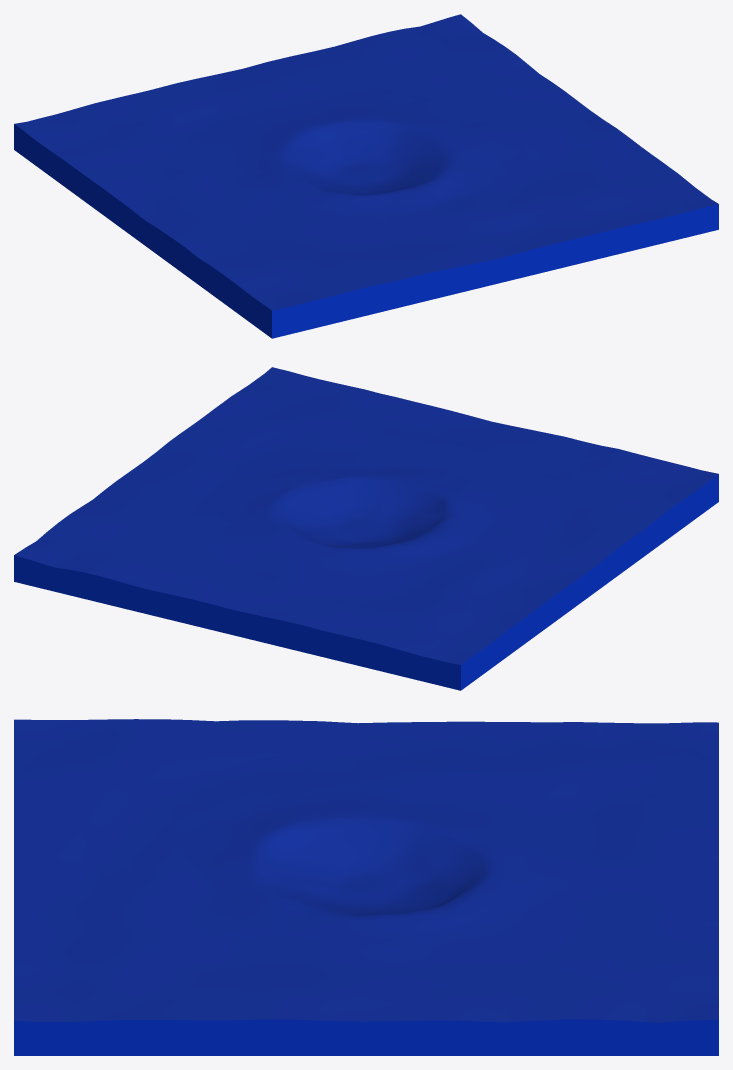
The model's file is craterHoloMap.fbx.
3 views of the same model, one above another, from view 1: azimuth 30°, elevation 25°; view 2: azimuth 150°, elevation 25°; view 3: azimuth 270°, elevation 25° (orthographic). The views are drawn at different scales.
Visible parts, largest first — view 1: Picard_LP; view 2: Picard_LP; view 3: Picard_LP.
Boxes of the visible parts, x1,y1,x2,y2 form: Picard_LP: [14, 14, 718, 338]; Picard_LP: [14, 367, 718, 690]; Picard_LP: [14, 719, 718, 1055].
Size of the model in its own units: 2566 by 172 by 2565.
